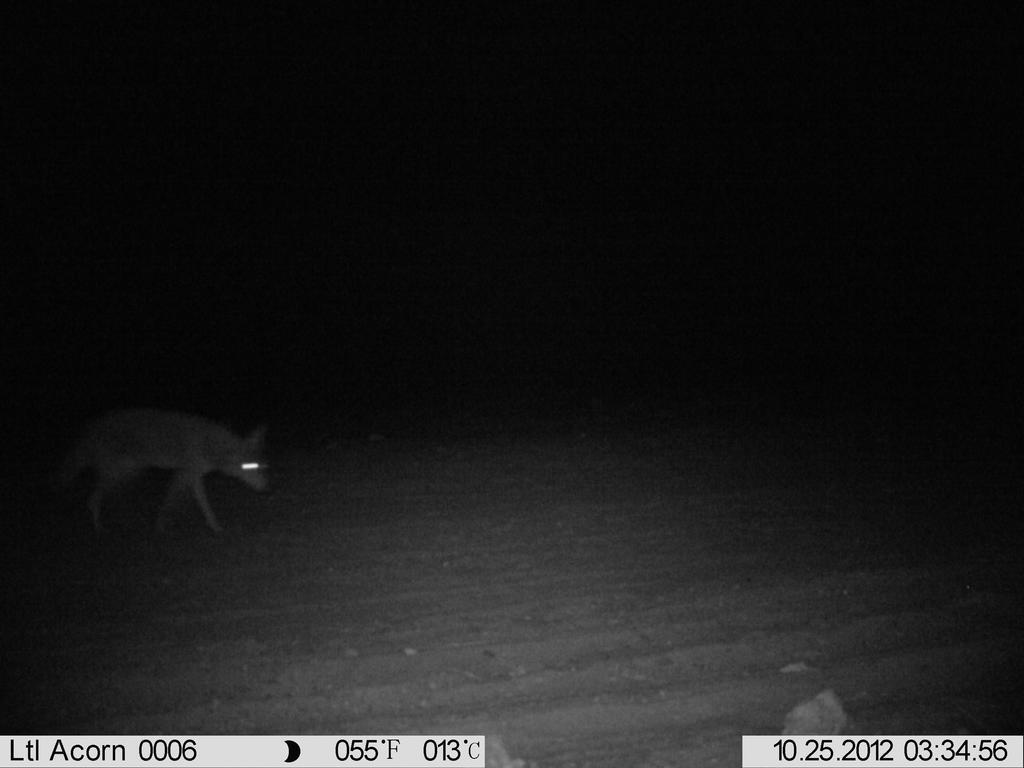coyote: (45, 399, 286, 538)
